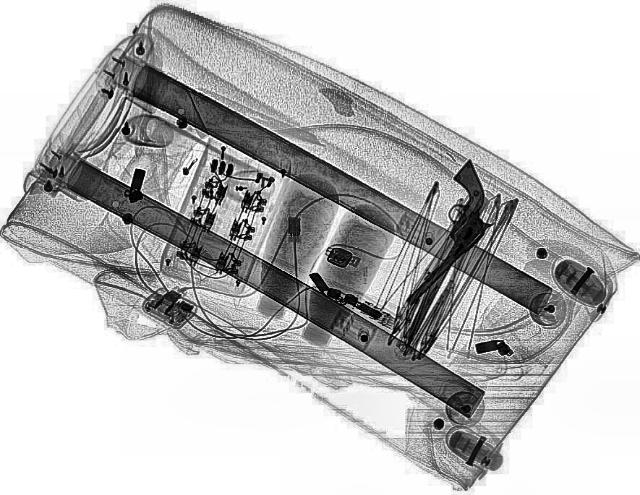Gun: (364, 158, 526, 310)
